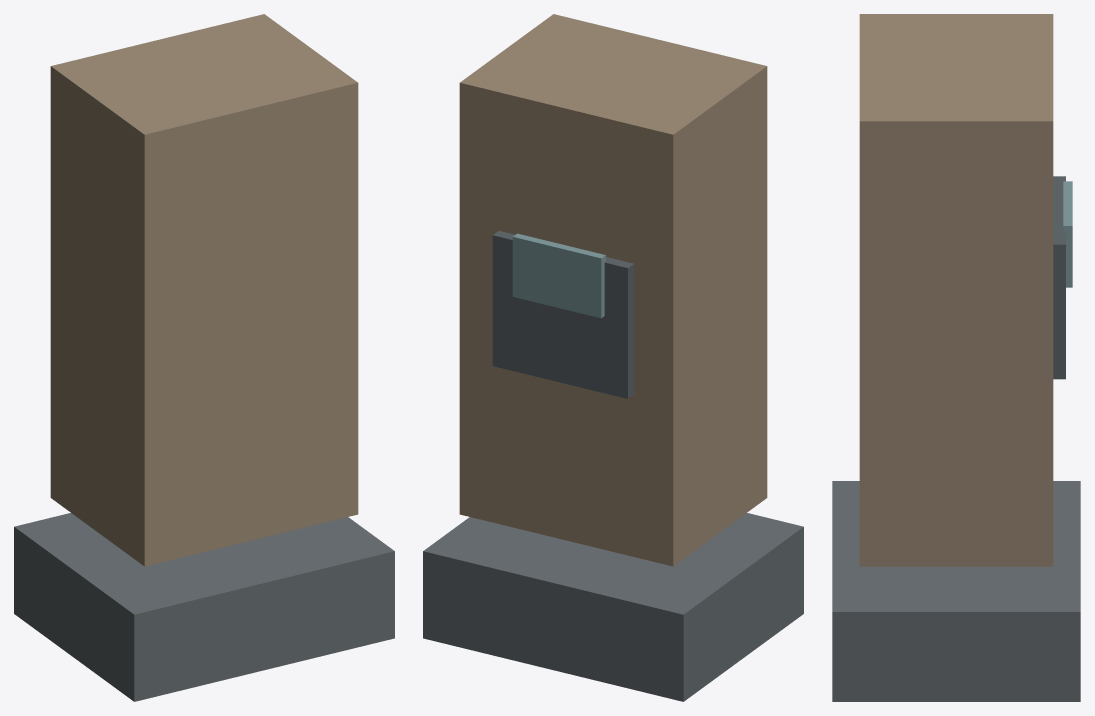
The model's file is iz3_build_defense_spotlight_02.glb.
3 views of the same model, side by side, from view 1: azimuth 30°, elevation 25°; view 2: azimuth 150°, elevation 25°; view 3: azimuth 270°, elevation 25° (orthographic). The views are drawn at different scales.
Visible parts, largest first — view 1: cabinet, base; view 2: cabinet, base, panel, display; view 3: cabinet, base, panel, display.
Boxes of the visible parts, bbox=[...] form: cabinet: bbox=[50, 14, 358, 566]; base: bbox=[14, 513, 394, 701]; cabinet: bbox=[459, 14, 767, 566]; base: bbox=[423, 513, 803, 701]; panel: bbox=[492, 231, 634, 398]; display: bbox=[512, 233, 605, 318]; cabinet: bbox=[859, 14, 1053, 566]; base: bbox=[832, 481, 1080, 701]; panel: bbox=[1053, 176, 1065, 379]; display: bbox=[1063, 181, 1072, 287].
Size of the model in its own units: 1 by 2.02 by 0.8.
